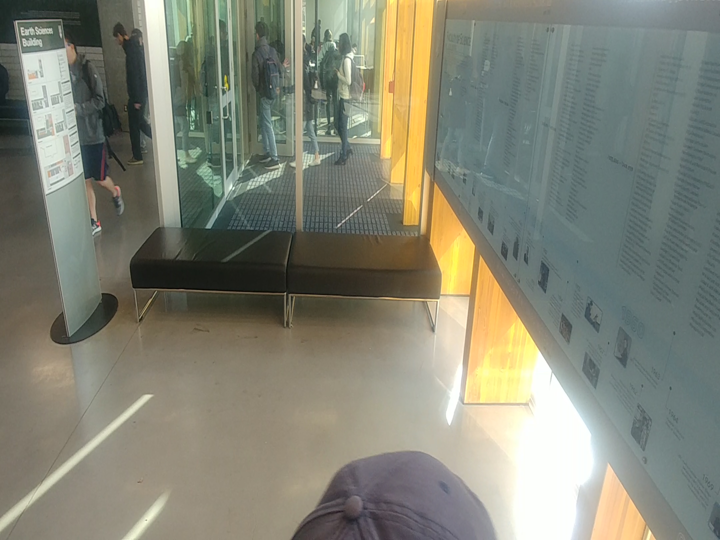face: (327, 28, 359, 61), (106, 19, 132, 51), (250, 19, 273, 46)
human: (60, 31, 127, 245), (106, 17, 159, 169), (247, 18, 291, 176), (328, 26, 362, 167)
